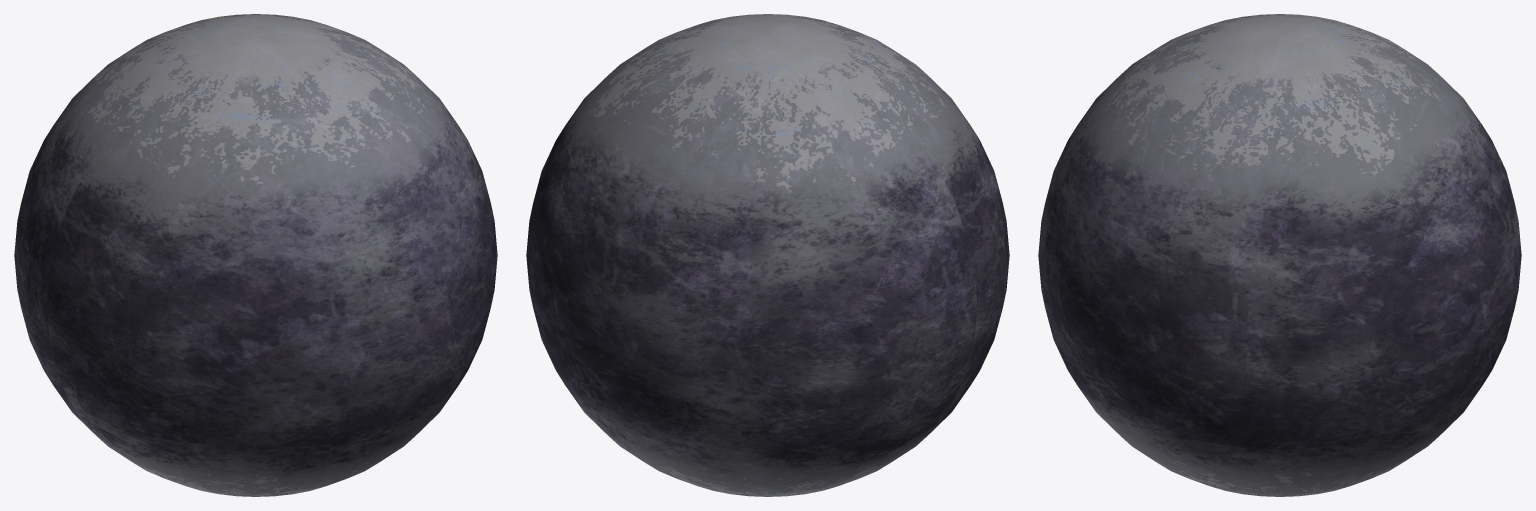
Rendered from moonlike.glb.
3 views of the same model, side by side, from view 1: azimuth 30°, elevation 25°; view 2: azimuth 150°, elevation 25°; view 3: azimuth 270°, elevation 25° (orthographic).
Parts seen in each view (by area): view 1: planet_frozen_6.001; view 2: planet_frozen_6.001; view 3: planet_frozen_6.001.
Boxes of the visible parts, bbox=[...] form: planet_frozen_6.001: bbox=[14, 14, 497, 496]; planet_frozen_6.001: bbox=[526, 14, 1009, 496]; planet_frozen_6.001: bbox=[1038, 14, 1521, 496].
Bounding box in the file's own units: 2 × 2 × 2.
1 material, 1 textured.
